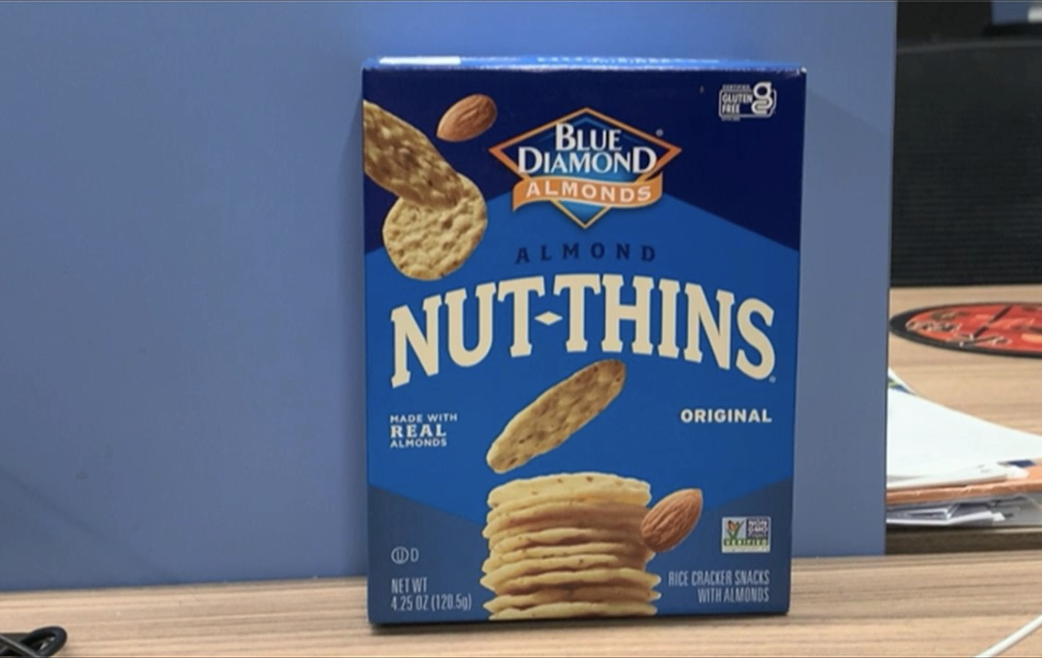crackers_150g: (377, 90, 783, 611)
